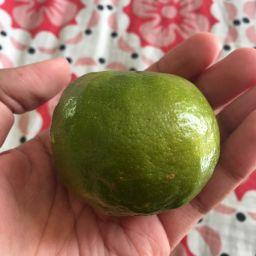Unripe: (51, 71, 224, 217)
